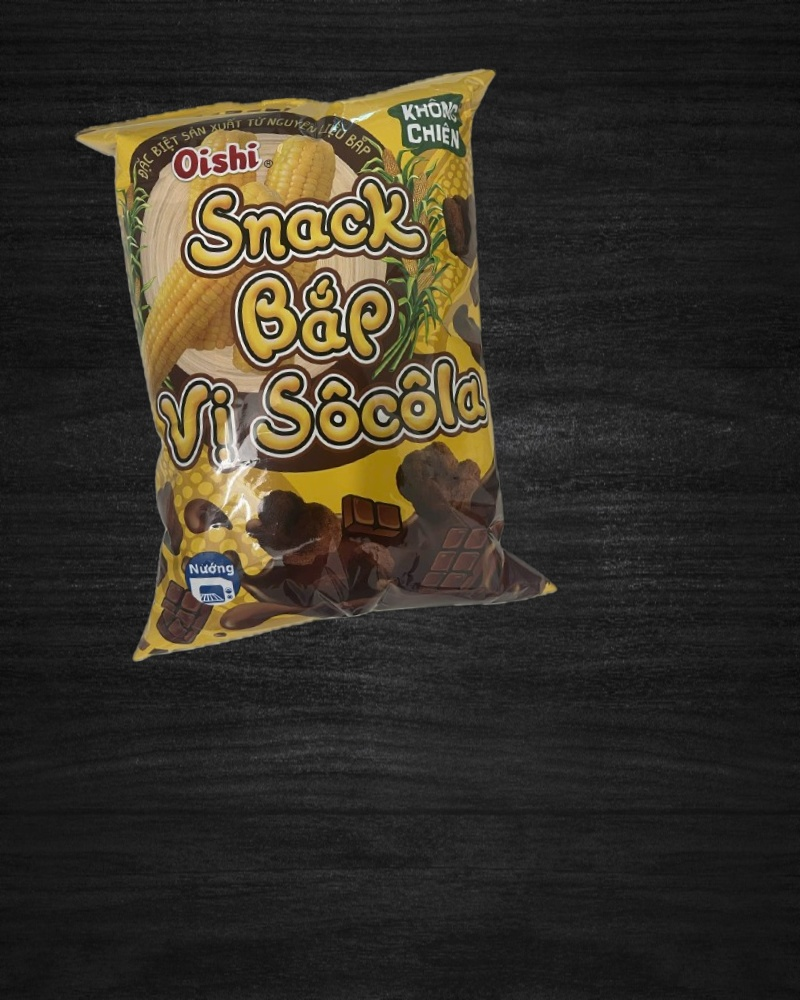Snack socola: (75, 70, 561, 651)
